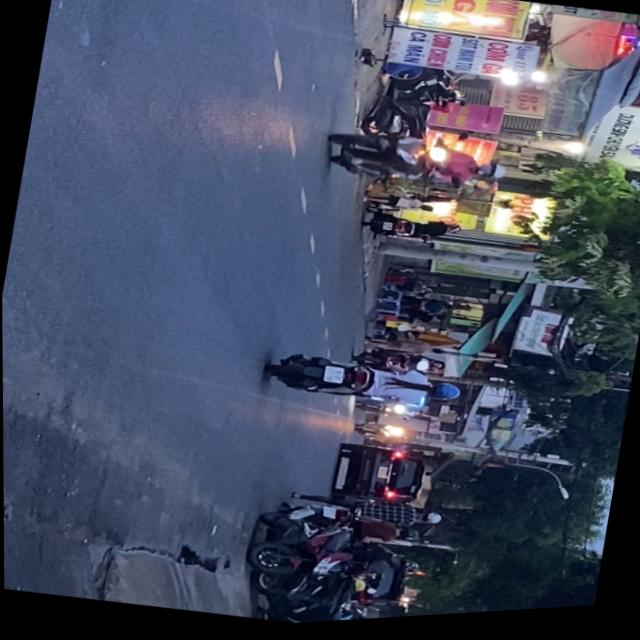helmet: (473, 162, 509, 187), (429, 383, 462, 407)
licenseplate: (320, 117, 513, 210), (263, 341, 466, 426)
nohelmet: (324, 367, 345, 387)
